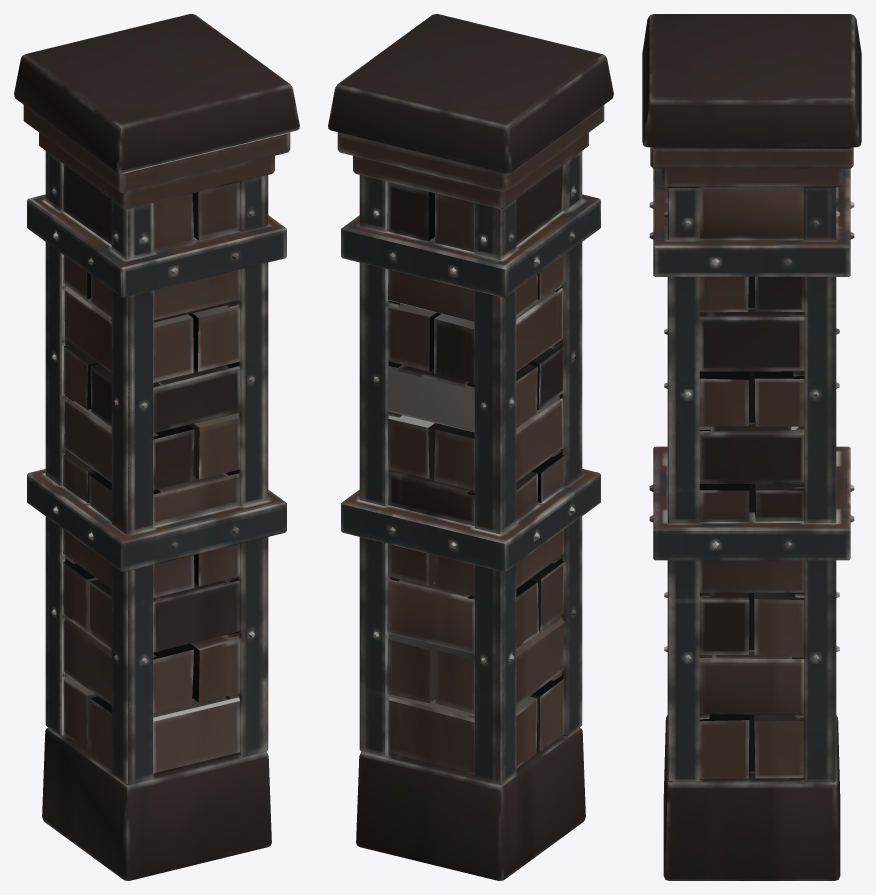
File: foundry_corner.glb
The picture shows the model from 3 angles, left to right: view 1: azimuth 30°, elevation 25°; view 2: azimuth 150°, elevation 25°; view 3: azimuth 270°, elevation 25°; orthographic projection. The views are drawn at different scales.
Visible parts, largest first — view 1: foundry_corner; view 2: foundry_corner; view 3: foundry_corner.
Boxes of the visible parts, <box> form: foundry_corner: <box>14,14,299,880</box>; foundry_corner: <box>328,14,613,880</box>; foundry_corner: <box>642,14,861,880</box>.
Size of the model in its own units: 1.51 by 6 by 1.51.
Materials: 1 (1 with a texture image).
